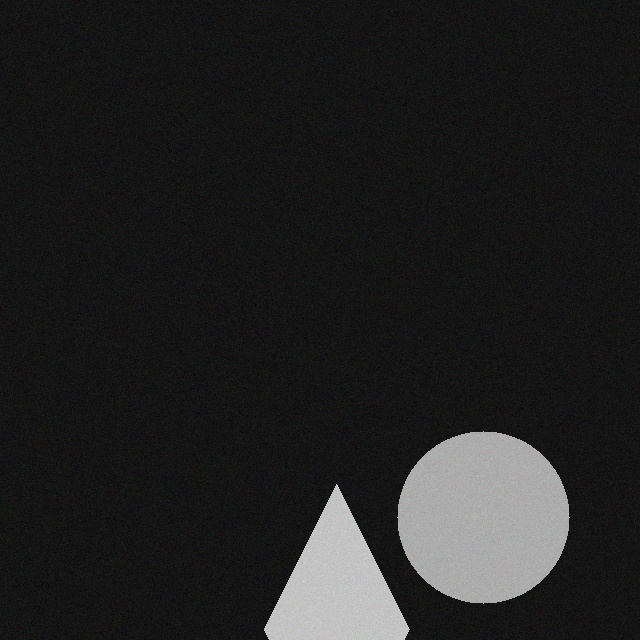circle: (399, 441, 571, 613)
triangle: (266, 494, 411, 639)
